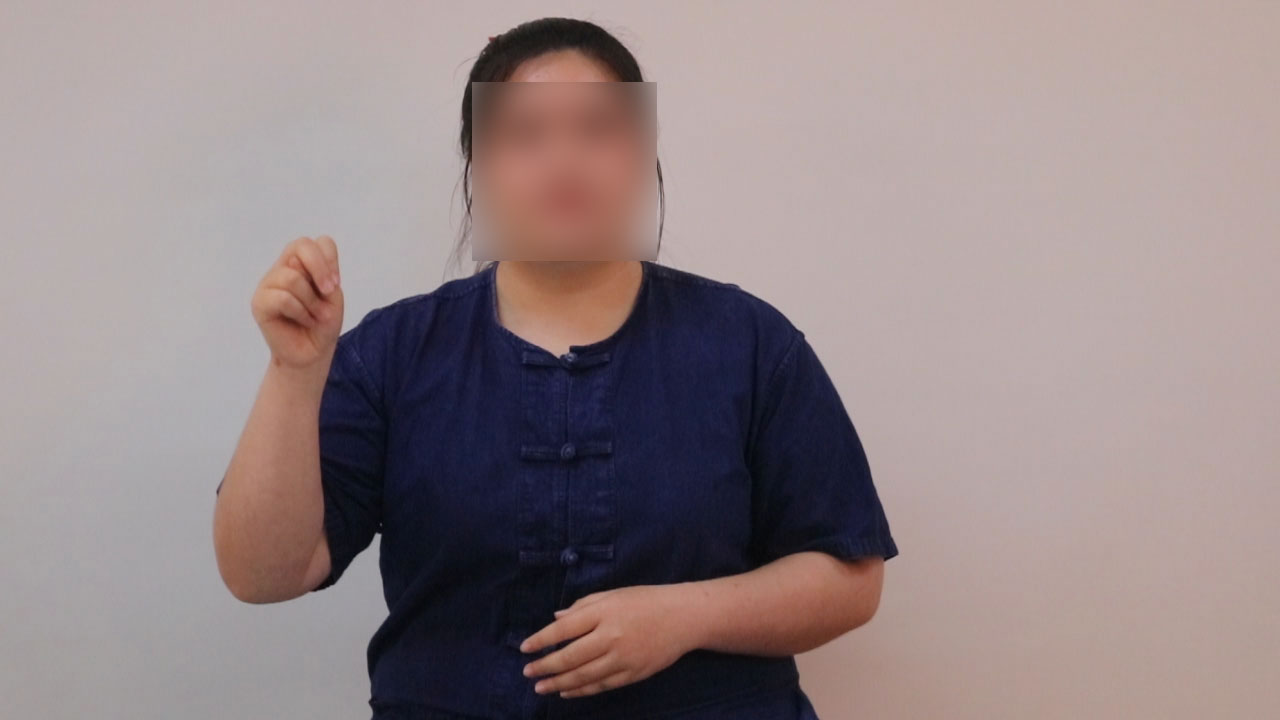nor: (242, 220, 363, 376)
